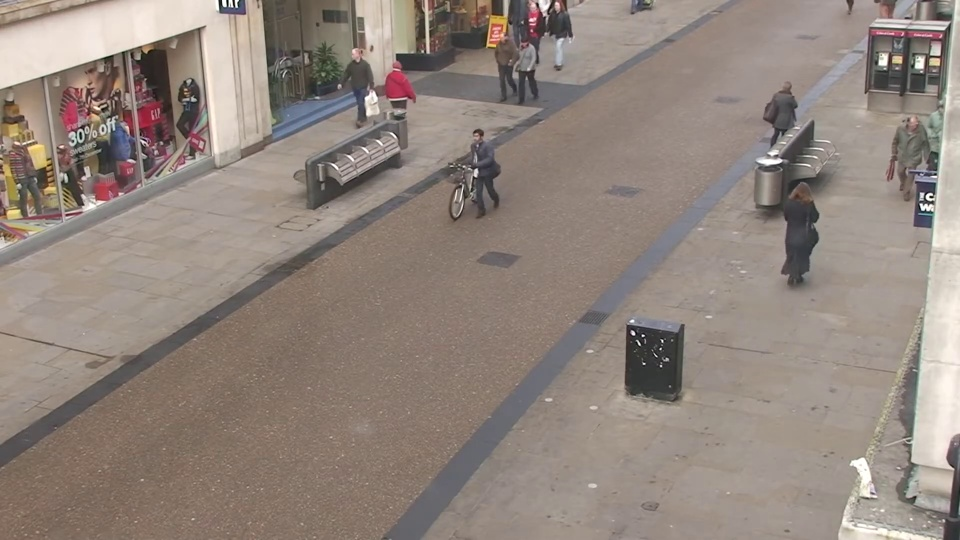pedestrian: (780, 175, 822, 288), (912, 96, 958, 192), (886, 112, 930, 210), (458, 125, 491, 224), (771, 76, 803, 162), (388, 55, 417, 134), (339, 50, 367, 127), (509, 34, 535, 107), (491, 28, 516, 100), (519, 4, 542, 68), (543, 2, 565, 67)
